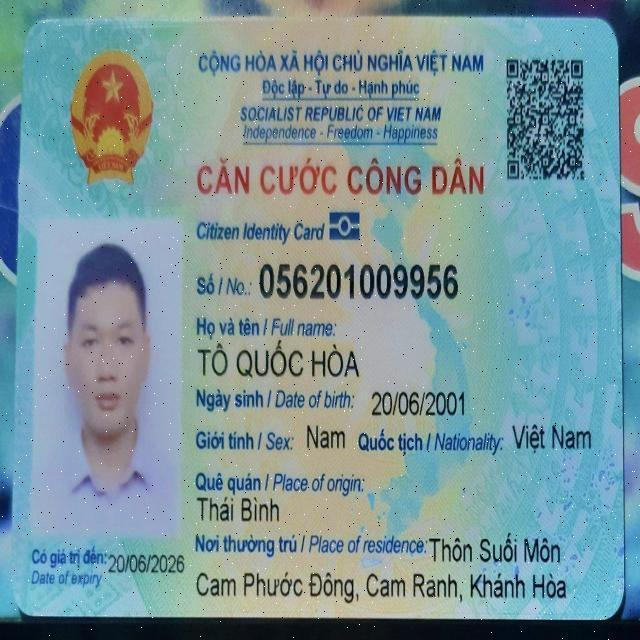current_place: (194, 568, 568, 607), (426, 528, 563, 568)
dob: (368, 385, 468, 421)
expire_date: (106, 550, 187, 578)
gender: (304, 420, 347, 454)
id: (257, 257, 461, 306)
name: (194, 336, 362, 383)
nationality: (510, 421, 594, 457)
origin_place: (195, 491, 282, 528)
